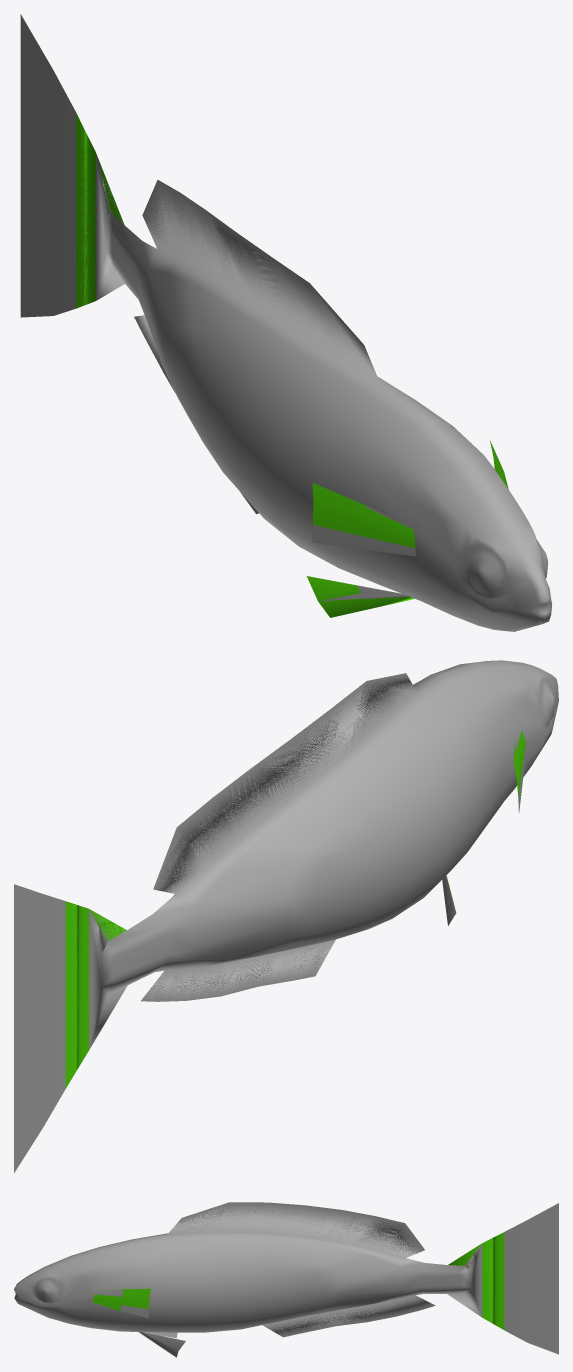
File: Sparidae_B_S.fbx
3 renders of one model, top to bottom at view 1: azimuth 30°, elevation 25°; view 2: azimuth 150°, elevation 25°; view 3: azimuth 270°, elevation 25°, orthographic. The views are drawn at different scales.
Visible parts, largest first — view 1: Sparidae_B_S_Mesh; view 2: Sparidae_B_S_Mesh; view 3: Sparidae_B_S_Mesh.
Part boxes in pixels (<box>): Sparidae_B_S_Mesh: <box>20,14,552,631</box>; Sparidae_B_S_Mesh: <box>14,660,558,1172</box>; Sparidae_B_S_Mesh: <box>14,1202,558,1357</box>.
Bounding box in the file's own units: 0.00198 × 0.00314 × 0.0101.
